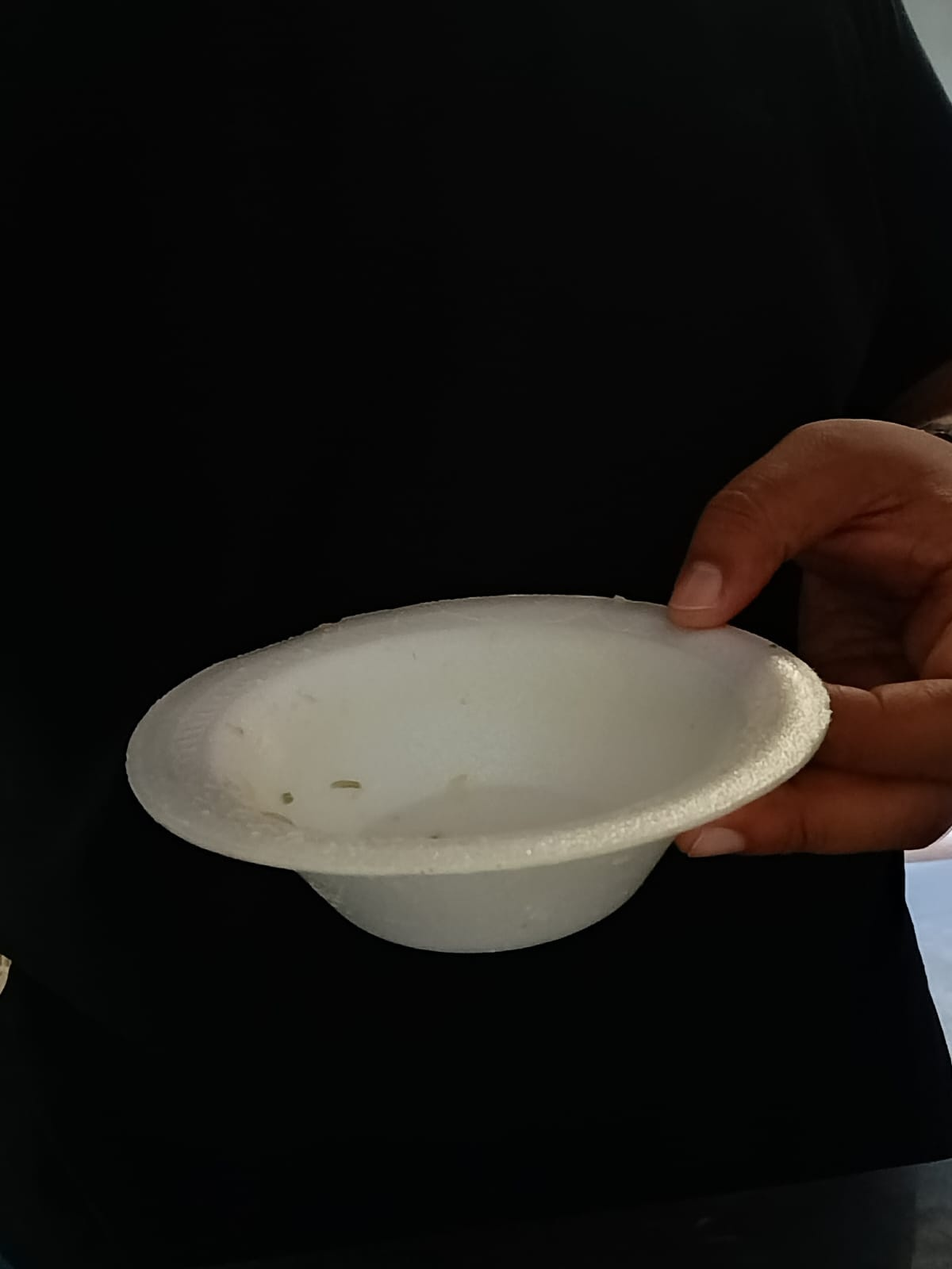Ordinario: (126, 595, 836, 950)
